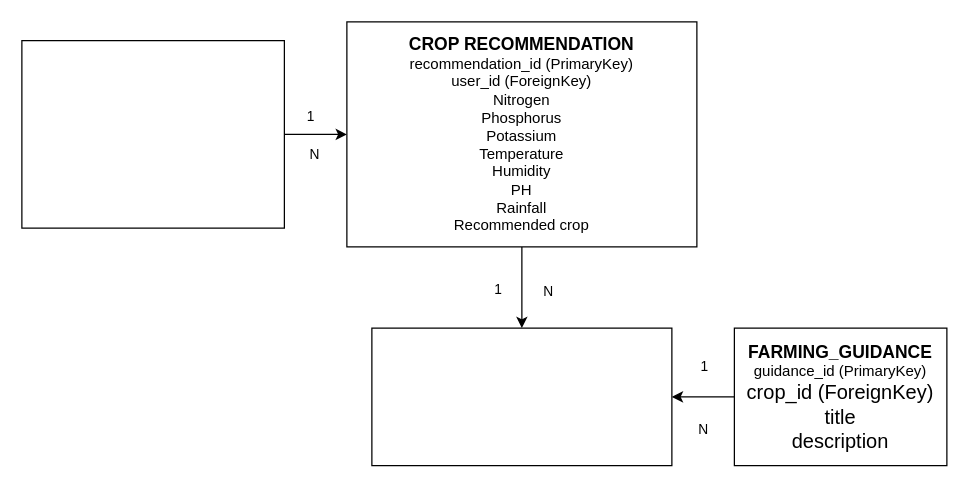
The diagram is 969 pixels wide and 488 high, and some of its shapes have lost their labels. Here are the shapes that lost their labels. From the top down, the box of each, then its label:
(21, 39, 284, 228): USER user_id (Primary Key) name email password
(371, 327, 672, 466): CROP crop_id (PrimaryKey) crop_name description
